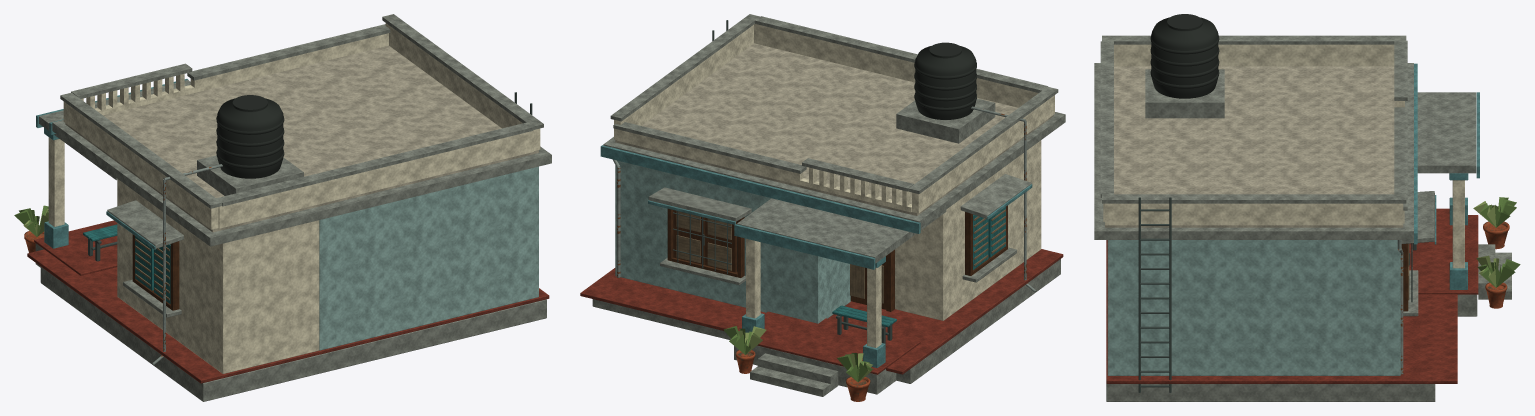
File: BLD_Home_Concrete_01.gltf
3 views of the same model, side by side, from view 1: azimuth 30°, elevation 25°; view 2: azimuth 150°, elevation 25°; view 3: azimuth 270°, elevation 25° (orthographic). The views are drawn at different scales.
Visible parts, largest first — view 1: TF3_BLD_Home_Concrete_01; view 2: TF3_BLD_Home_Concrete_01; view 3: TF3_BLD_Home_Concrete_01.
Boxes of the visible parts, x1,y1,x2,y2 form: TF3_BLD_Home_Concrete_01: [14, 14, 551, 401]; TF3_BLD_Home_Concrete_01: [580, 14, 1065, 401]; TF3_BLD_Home_Concrete_01: [1094, 14, 1520, 401].
Bounding box in the file's own units: 7.49 × 5.01 × 7.64.
19 materials, 11 textured.
